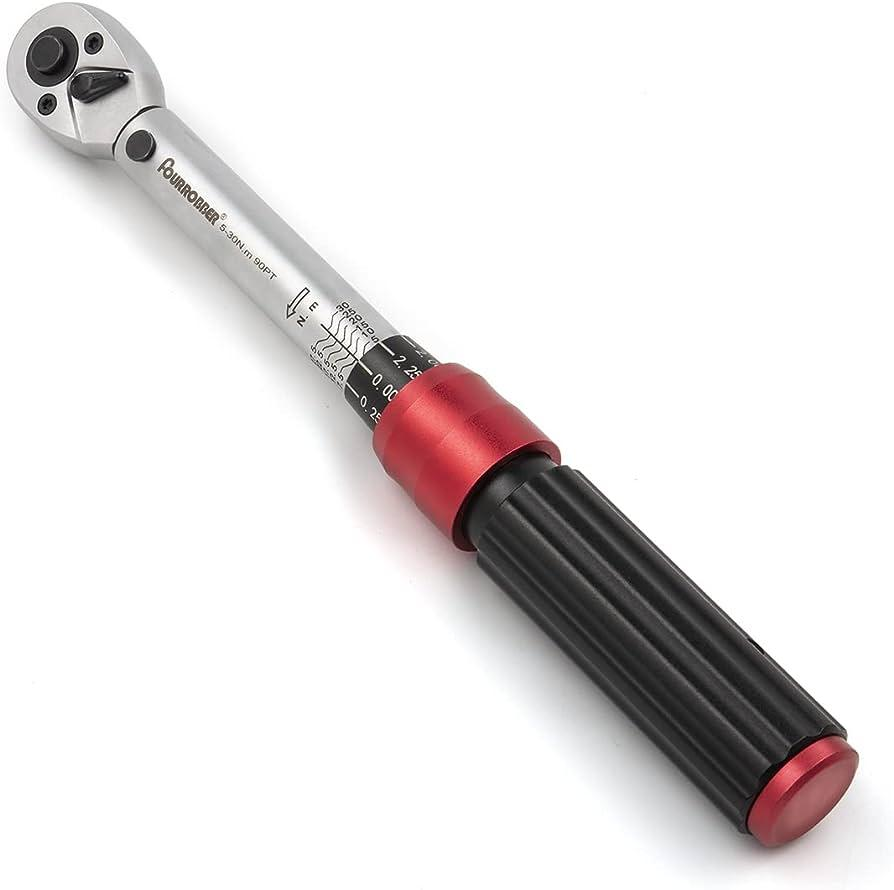Tool: (2, 1, 166, 161)
